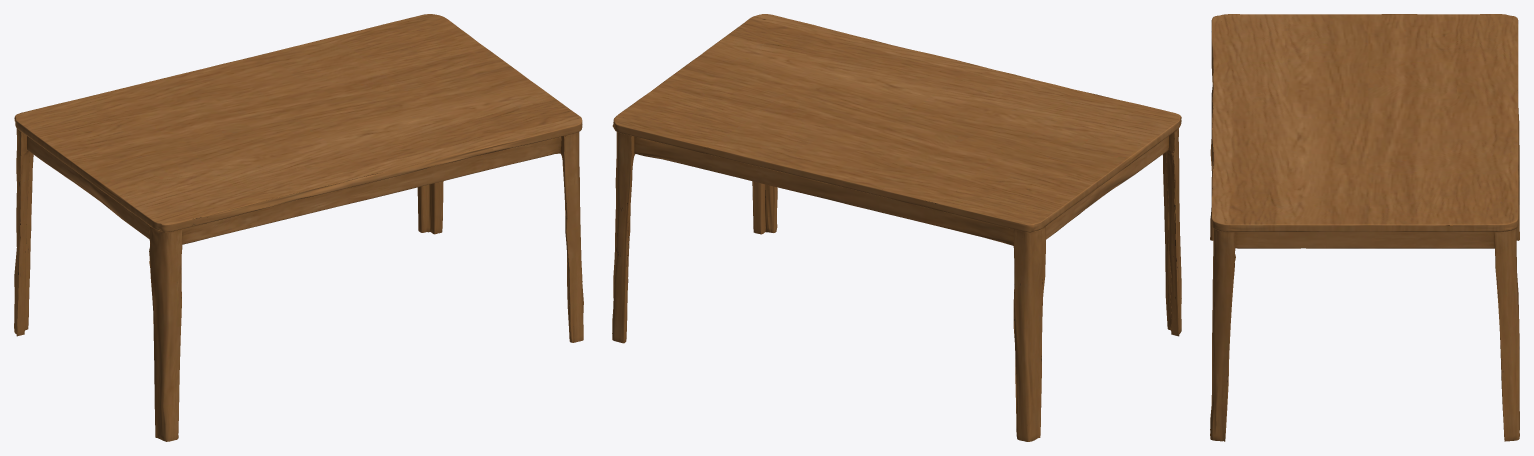
Rendered from desktop.glb.
The picture shows the model from 3 angles, left to right: view 1: azimuth 30°, elevation 25°; view 2: azimuth 150°, elevation 25°; view 3: azimuth 270°, elevation 25°; orthographic projection.
Parts seen in each view (by area): view 1: diningtable; view 2: diningtable; view 3: diningtable.
Part boxes in pixels (<box>): diningtable: <box>14,14,583,441</box>; diningtable: <box>612,14,1181,441</box>; diningtable: <box>1210,14,1519,441</box>.
Size of the model in its own units: 1.49 by 0.7183 by 0.9235.
1 material, 1 textured.
